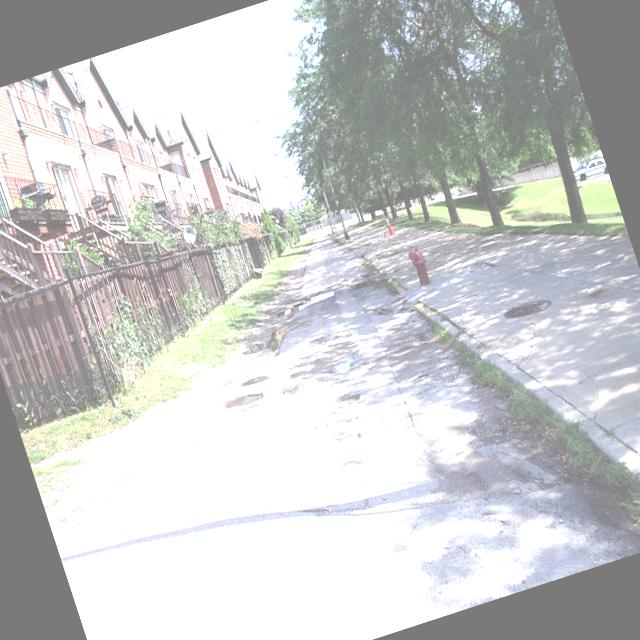Vehicle: (570, 158, 609, 185)
